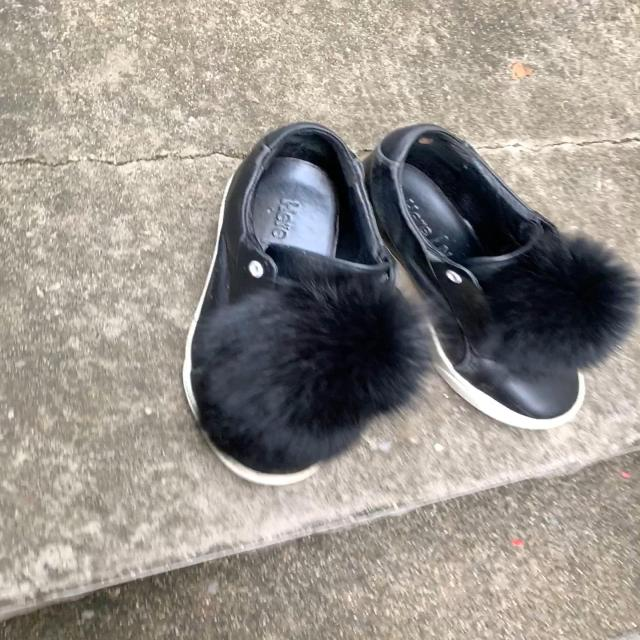shoe: (367, 125, 638, 417), (191, 123, 396, 475)
